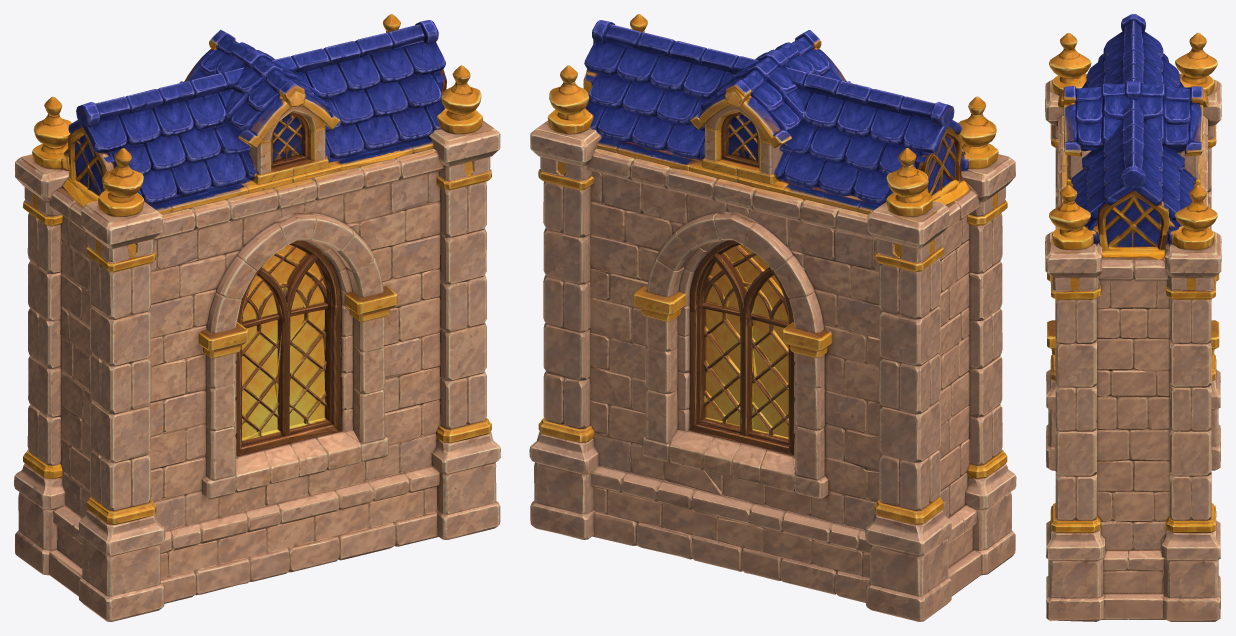
File: iso-wall.glb
The picture shows the model from 3 angles, left to right: view 1: azimuth 30°, elevation 25°; view 2: azimuth 150°, elevation 25°; view 3: azimuth 270°, elevation 25°; orthographic projection. The views are drawn at different scales.
Parts seen in each view (by area): view 1: Mesh_0; view 2: Mesh_0; view 3: Mesh_0.
Boxes of the visible parts, x1,y1,x2,y2 form: Mesh_0: (14, 14, 500, 621); Mesh_0: (529, 14, 1016, 621); Mesh_0: (1045, 14, 1221, 621).
Size of the model in its own units: 1.6 by 1.9 by 0.6738.
1 material, 1 textured.
